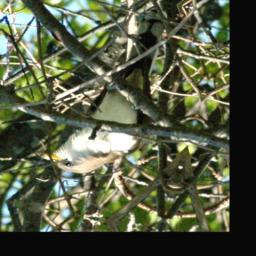Cuckoo: (31, 0, 188, 185)
